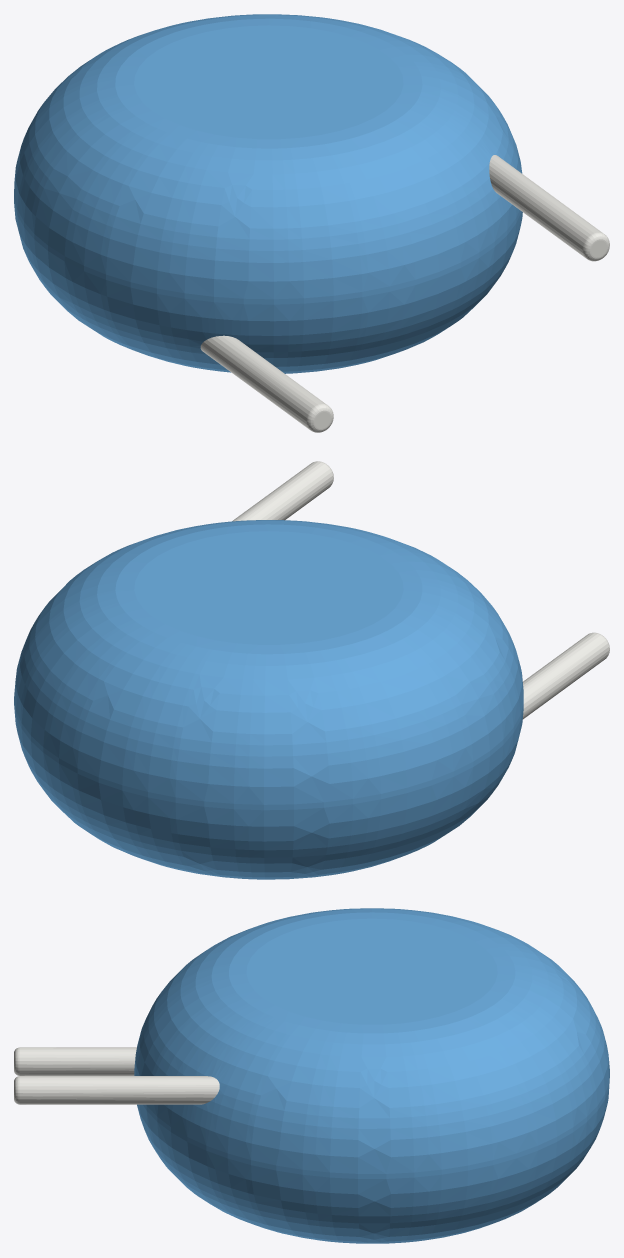
Rendered from RV_Disc_D12mm_W5.8mm_P7.5mm.glb.
3 renders of one model, top to bottom at view 1: azimuth 30°, elevation 25°; view 2: azimuth 150°, elevation 25°; view 3: azimuth 270°, elevation 25°, orthographic. The views are drawn at different scales.
Visible parts, largest first — view 1: Shape_IndexedFaceSet.001, Shape_IndexedFaceSet.002, Shape_IndexedFaceSet.003, Shape_IndexedFaceSet.006, Shape_IndexedFaceSet.004, Shape_IndexedFaceSet; view 2: Shape_IndexedFaceSet.001, Shape_IndexedFaceSet.002, Shape_IndexedFaceSet.003, Shape_IndexedFaceSet, Shape_IndexedFaceSet.006, Shape_IndexedFaceSet.004; view 3: Shape_IndexedFaceSet.001, Shape_IndexedFaceSet.002, Shape_IndexedFaceSet.003, Shape_IndexedFaceSet.004, Shape_IndexedFaceSet.006, Shape_IndexedFaceSet.
Boxes of the visible parts, bbox=[...] form: Shape_IndexedFaceSet.001: bbox=[14, 14, 522, 299]; Shape_IndexedFaceSet.002: bbox=[14, 203, 522, 373]; Shape_IndexedFaceSet.003: bbox=[134, 25, 403, 139]; Shape_IndexedFaceSet.006: bbox=[200, 335, 326, 428]; Shape_IndexedFaceSet.004: bbox=[489, 155, 602, 257]; Shape_IndexedFaceSet: bbox=[14, 197, 521, 304]; Shape_IndexedFaceSet.001: bbox=[14, 520, 523, 804]; Shape_IndexedFaceSet.002: bbox=[14, 705, 523, 879]; Shape_IndexedFaceSet.003: bbox=[134, 531, 403, 644]; Shape_IndexedFaceSet: bbox=[14, 699, 523, 810]; Shape_IndexedFaceSet.006: bbox=[522, 633, 608, 719]; Shape_IndexedFaceSet.004: bbox=[232, 461, 332, 521]; Shape_IndexedFaceSet.001: bbox=[134, 908, 609, 1173]; Shape_IndexedFaceSet.002: bbox=[137, 1083, 609, 1243]; Shape_IndexedFaceSet.003: bbox=[246, 918, 497, 1024]; Shape_IndexedFaceSet.004: bbox=[19, 1076, 219, 1104]; Shape_IndexedFaceSet.006: bbox=[19, 1047, 136, 1075]; Shape_IndexedFaceSet: bbox=[134, 1073, 609, 1178].
Size of the model in its own units: 4.72 by 2.28 by 5.92.
